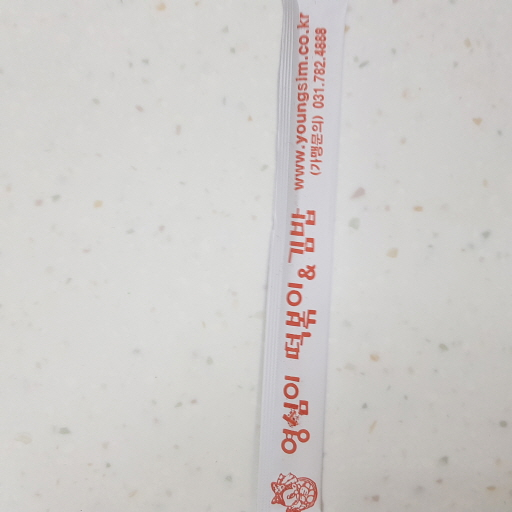Paper_2: (250, 1, 355, 512)
